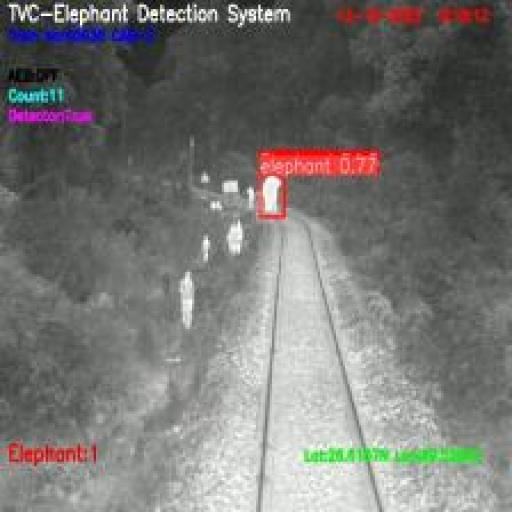Elephant: (260, 174, 284, 217)
